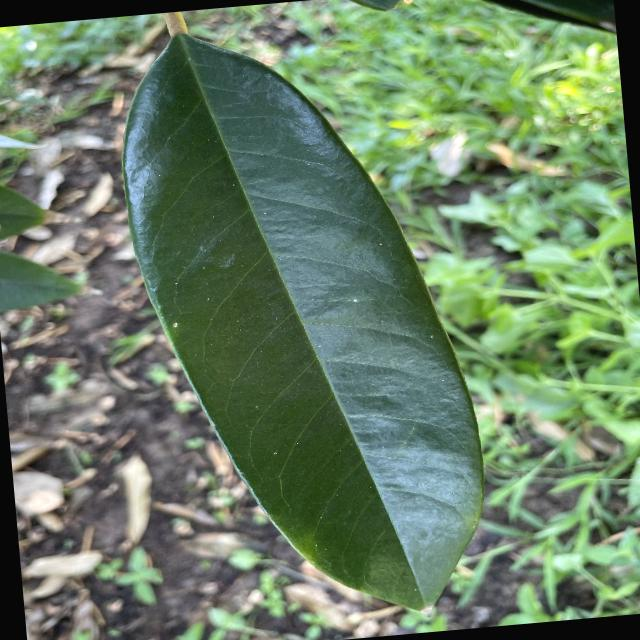No Disease: (105, 0, 505, 639)
